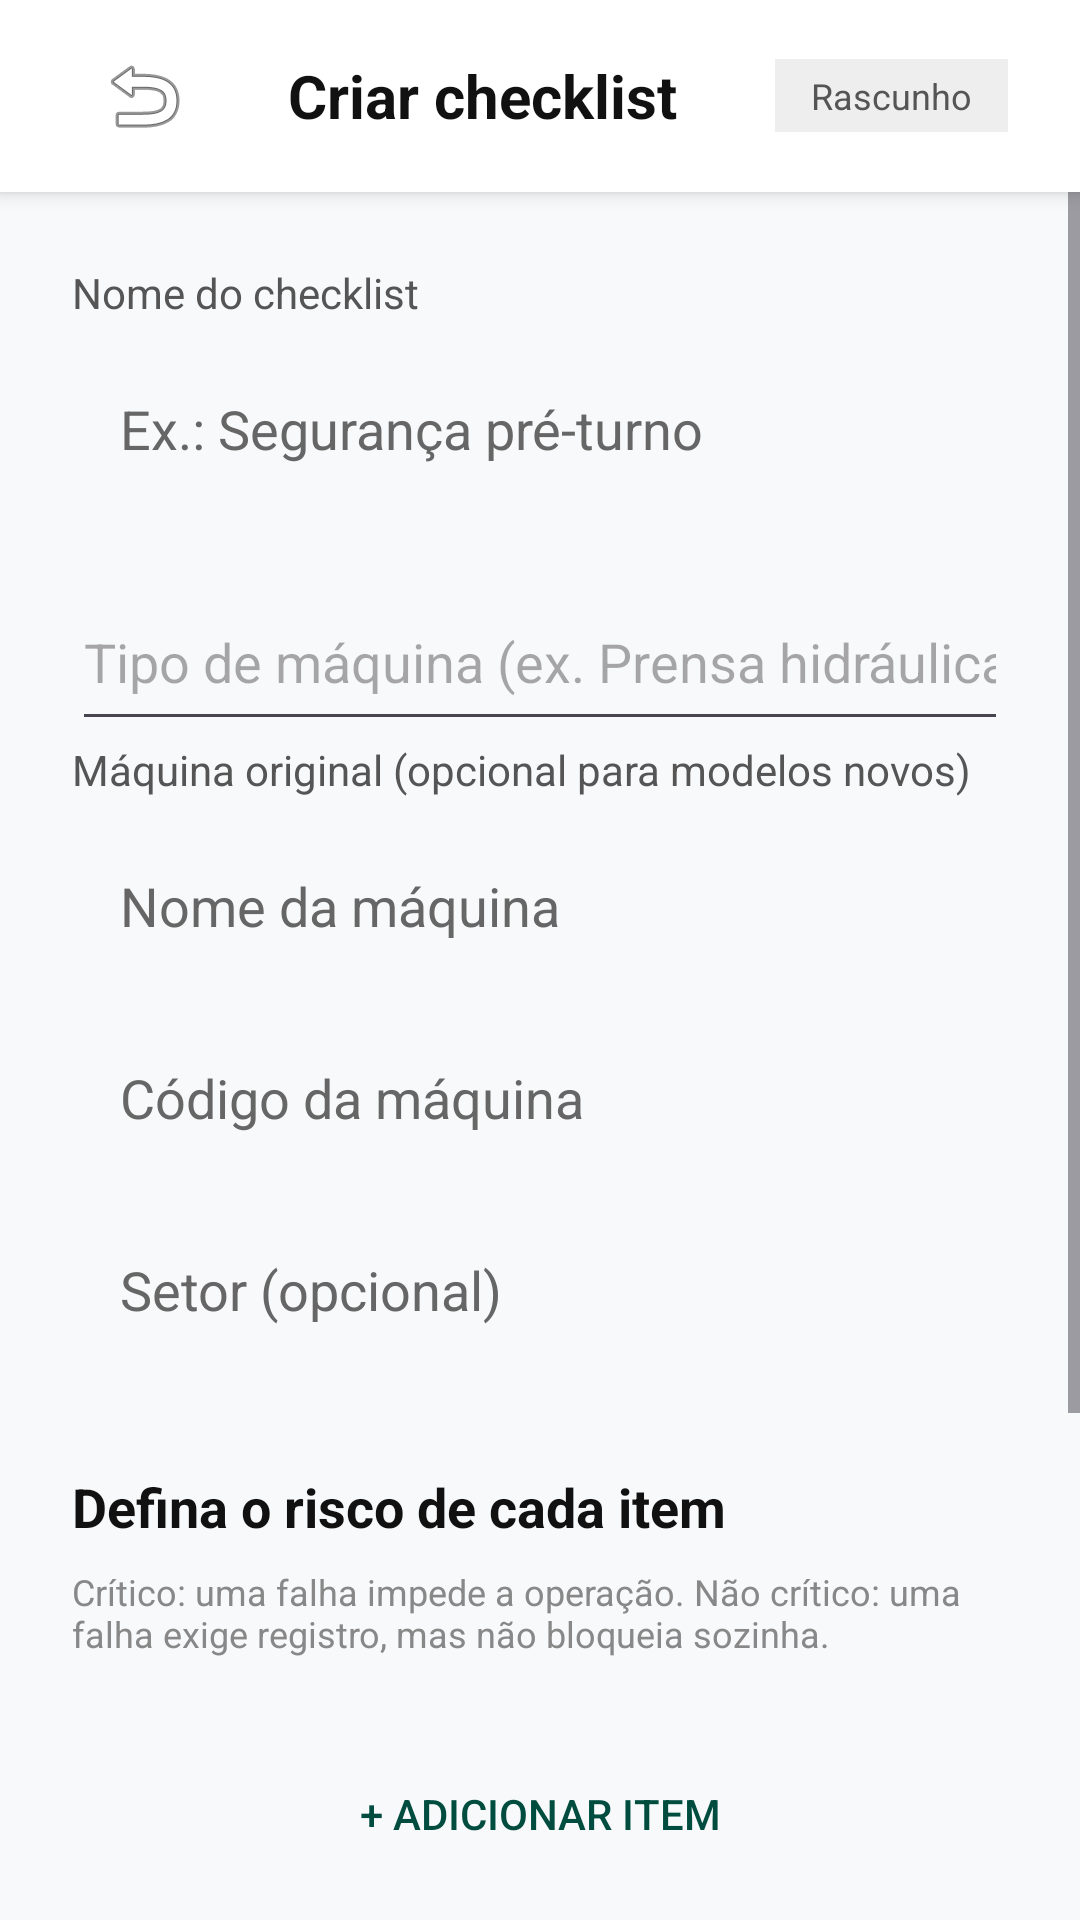

Icon bounding boxes for this 1080 × 1920 phone screenshot, format rect(x1, y1, x2, y2):
Voltar: rect(111, 65, 180, 128)
